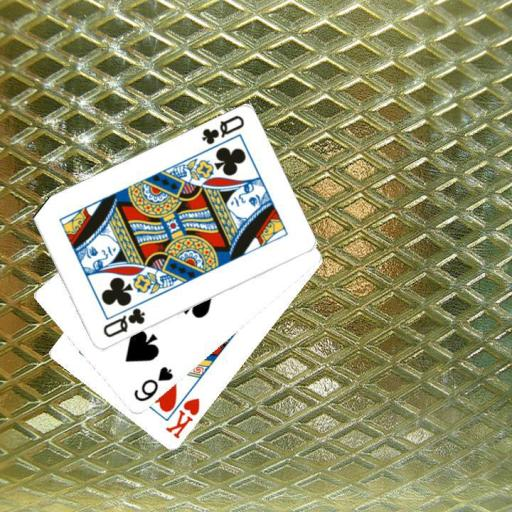6S: (130, 363, 175, 404)
KH: (162, 395, 202, 441)
QC: (100, 305, 147, 340), (198, 113, 246, 147)
